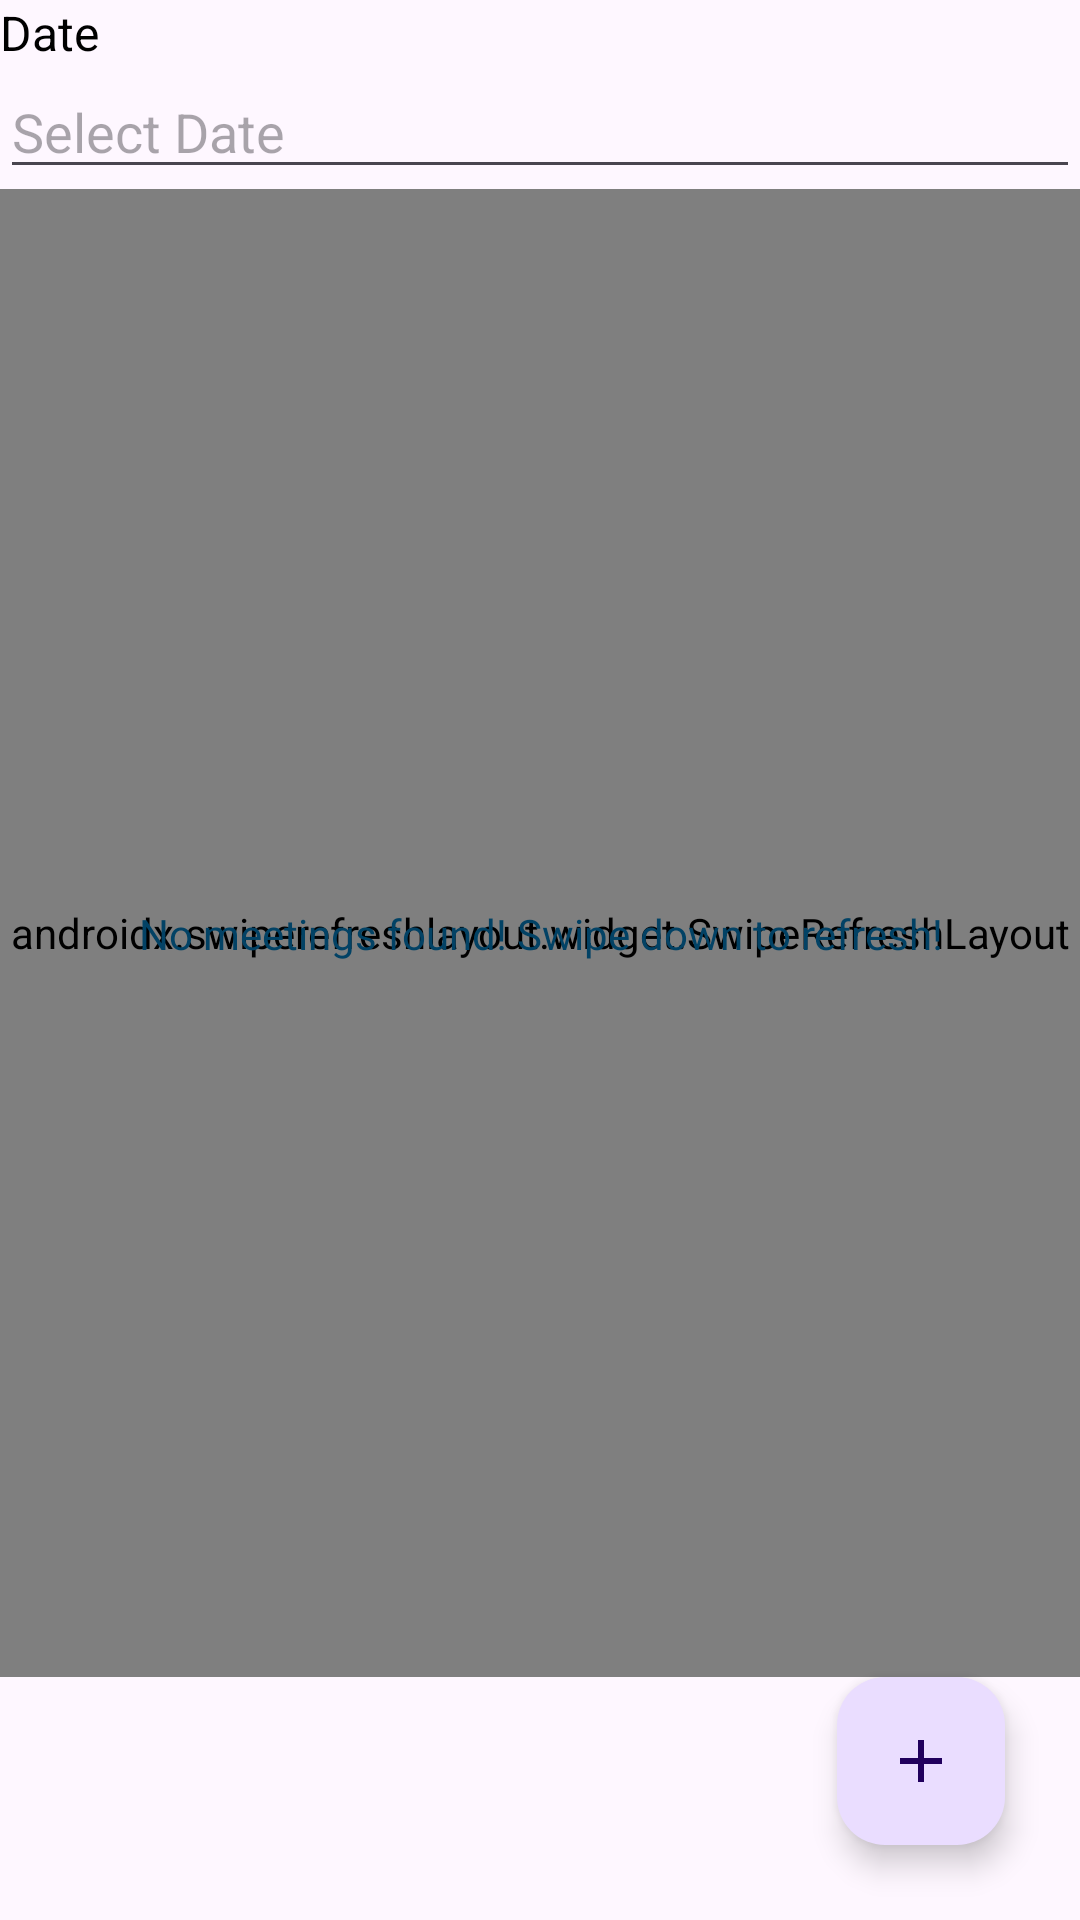

Named icons in this screenshot (1080*1920) and their centers, point (x, y):
plus: point (921, 1761)
